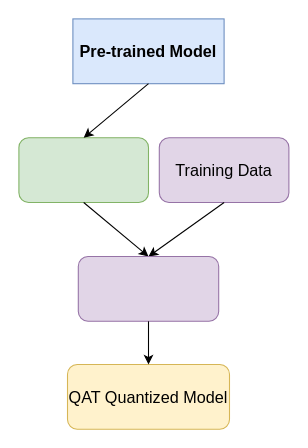
Some shapes in this 308 by 448 pixel diagram are drawn without their labels. The box of each missing label's shape, as (x1, y1, x2, y2) in pixels:
Quantize Model: (18, 137, 148, 202)
Retrained Model: (77, 255, 219, 321)
